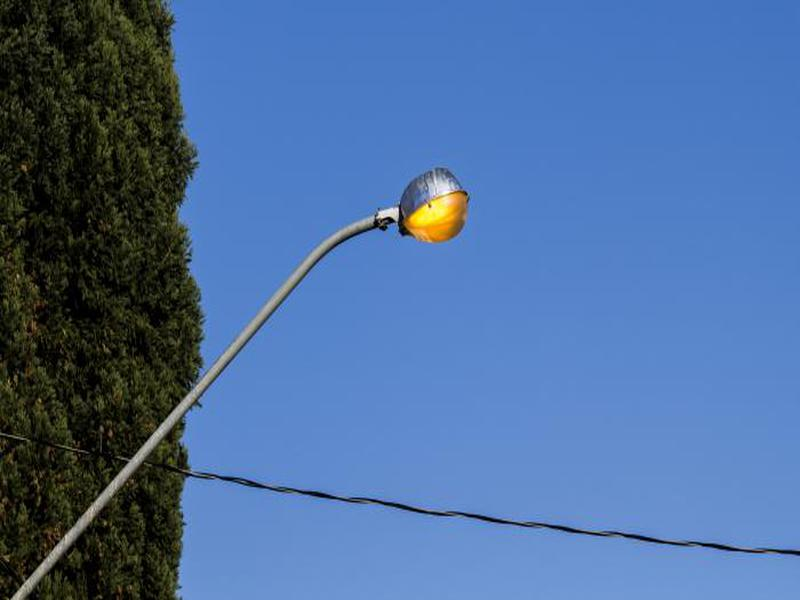IP: (36, 164, 495, 586)
